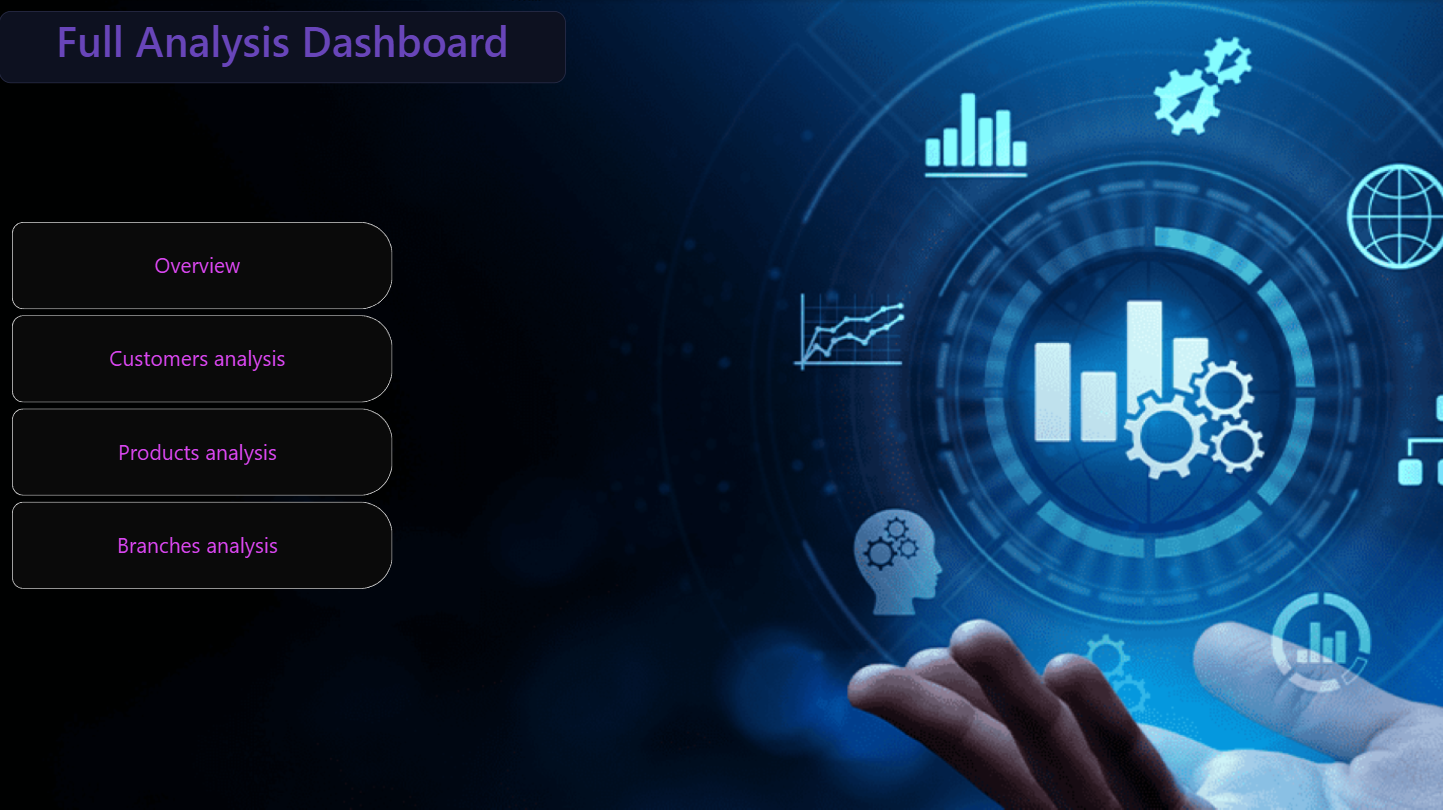

The page's visual inventory and layout, read from the dashboard file:
{"tool":"powerbi","page":{"name":"Home_page","canvas":[1920,1080],"ordinal":0},"visuals":[{"type":"pageNavigator","box":[17.3,295.3,506.7,489.5],"z":0},{"type":"textbox","box":[0,14,754.1,95.8],"z":1}]}

Visuals, with their boxes in screenshot pixels (x1, y1, x2, y2), scaled from the page's 1920x1080 canvas onto the 1443x810 screenshot:
pageNavigator: 13:221:394:589
textbox: 0:10:567:82
